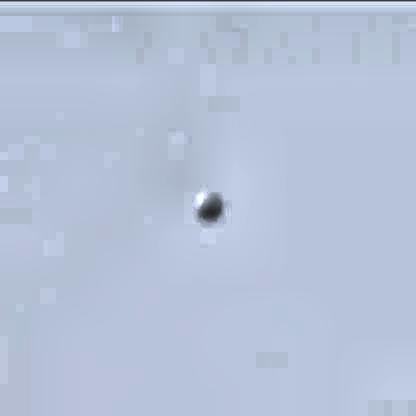golfball: (192, 186, 222, 217)
